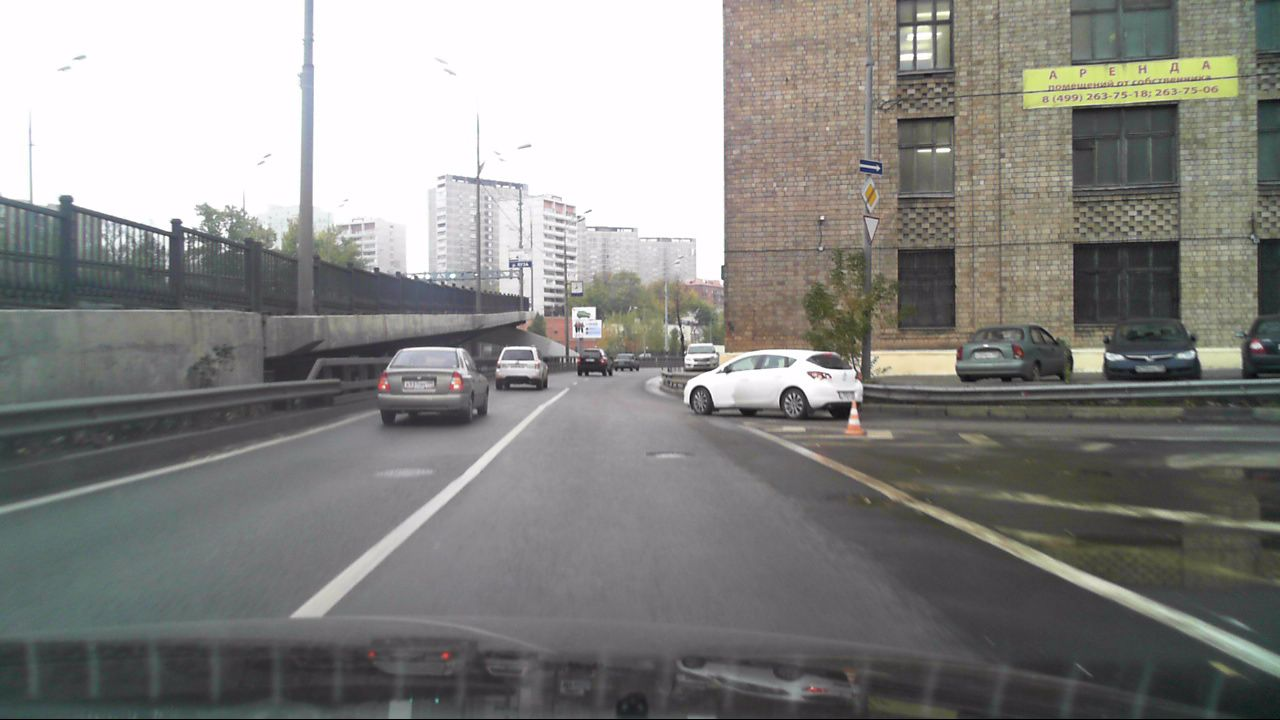main road: (857, 178, 883, 212)
